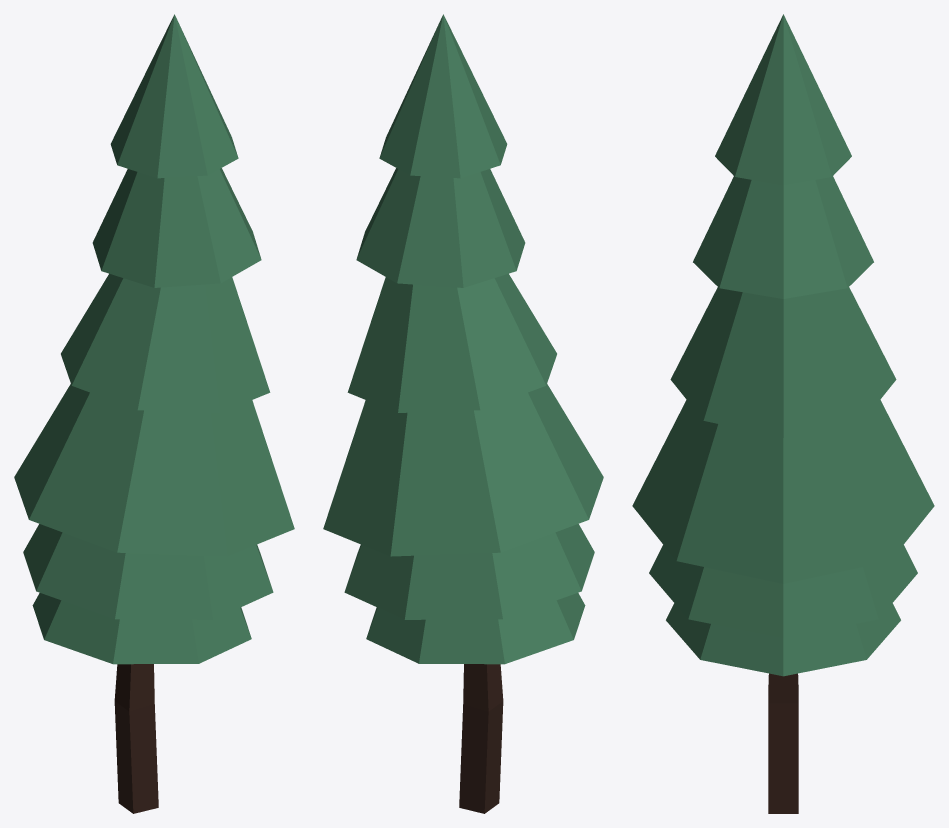
The model's file is pine.gltf.
3 views of the same model, side by side, from view 1: azimuth 30°, elevation 25°; view 2: azimuth 150°, elevation 25°; view 3: azimuth 270°, elevation 25° (orthographic). The views are drawn at different scales.
Parts seen in each view (by area): view 1: Cone; view 2: Cone; view 3: Cone.
Boxes of the visible parts, x1,y1,x2,y2 form: Cone: (14, 14, 294, 813); Cone: (323, 14, 603, 813); Cone: (632, 14, 934, 813).
Size of the model in its own units: 3.83 by 11.4 by 3.85.
